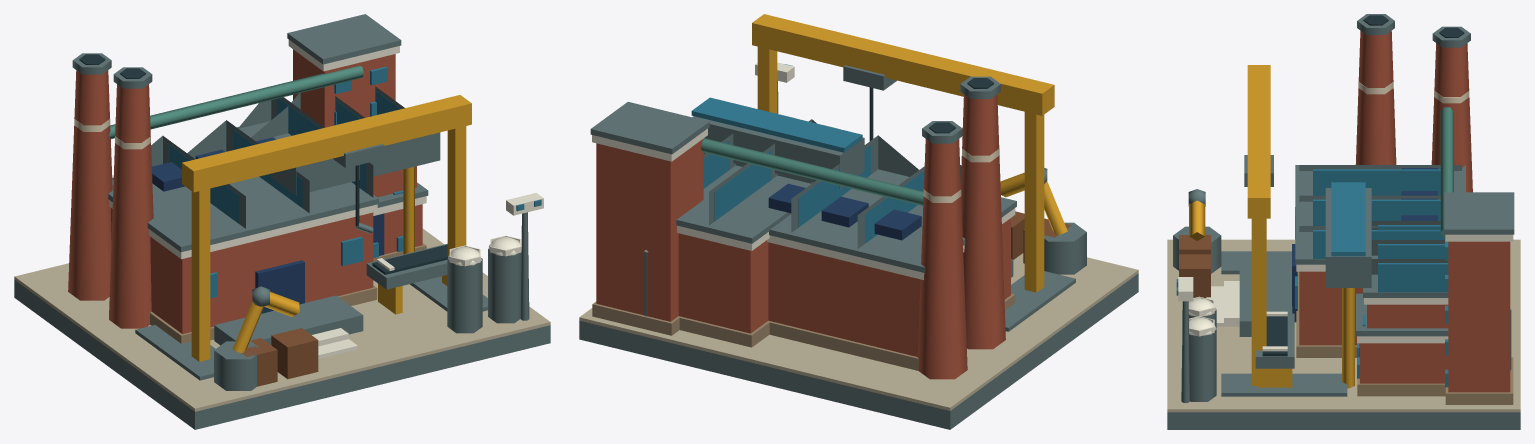
File: factory-lv5.glb
3 views of the same model, side by side, from view 1: azimuth 30°, elevation 25°; view 2: azimuth 150°, elevation 25°; view 3: azimuth 270°, elevation 25° (orthographic). The views are drawn at different scales.
Parts seen in each view (by area): view 1: chimney_clay, foundation_paving, main_workshop_clay, foundation_iron, gantry_beam_ochre, main_workshop_roof_iron, gantry_posts_ochre, material_silos_iron, process_tower_clay, logistics_bridge_iron, loading_platform_iron, process_tower_roof_iron (+29 smaller); view 2: chimney_clay, foundation_paving, process_tower_clay, main_workshop_clay, foundation_iron, gantry_beam_ochre, second_workshop_clay, main_workshop_roof_iron, gantry_posts_ochre, second_workshop_roof_iron, process_tower_roof_iron, bridge_roof_glass (+20 smaller); view 3: foundation_paving, process_tower_clay, chimney_clay, foundation_iron, main_workshop_skylights_glass, gantry_beam_ochre, warehouse_clay, second_workshop_skylights_glass, gantry_foot_iron, main_workshop_clay, process_tower_roof_iron, bridge_roof_glass (+33 smaller).
Boxes of the visible parts, x1=… form: chimney_clay: x1=68, y1=70, x2=153, y2=328; foundation_paving: x1=14, y1=228, x2=550, y2=411; main_workshop_clay: x1=111, y1=208, x2=373, y2=333; foundation_iron: x1=14, y1=280, x2=550, y2=429; gantry_beam_ochre: x1=182, y1=95, x2=471, y2=192; main_workshop_roof_iron: x1=108, y1=176, x2=378, y2=252; gantry_posts_ochre: x1=191, y1=126, x2=466, y2=361; material_silos_iron: x1=447, y1=248, x2=521, y2=333; process_tower_clay: x1=293, y1=49, x2=395, y2=127; logistics_bridge_iron: x1=272, y1=132, x2=440, y2=195; loading_platform_iron: x1=214, y1=295, x2=363, y2=345; process_tower_roof_iron: x1=287, y1=14, x2=401, y2=64; chimney_clay: x1=917, y1=94, x2=1005, y2=379; foundation_paving: x1=579, y1=253, x2=1138, y2=410; process_tower_clay: x1=596, y1=138, x2=703, y2=321; main_workshop_clay: x1=768, y1=218, x2=1010, y2=356; foundation_iron: x1=579, y1=273, x2=1138, y2=429; gantry_beam_ochre: x1=752, y1=14, x2=1054, y2=115; second_workshop_clay: x1=678, y1=233, x2=768, y2=333; main_workshop_roof_iron: x1=769, y1=169, x2=1016, y2=272; gantry_posts_ochre: x1=757, y1=46, x2=1044, y2=292; second_workshop_roof_iron: x1=676, y1=165, x2=812, y2=243; process_tower_roof_iron: x1=590, y1=102, x2=709, y2=154; bridge_roof_glass: x1=691, y1=97, x2=862, y2=152; foundation_paving: x1=1167, y1=239, x2=1520, y2=412; process_tower_clay: x1=1448, y1=241, x2=1510, y2=392; chimney_clay: x1=1355, y1=30, x2=1472, y2=192; foundation_iron: x1=1167, y1=412, x2=1520, y2=429; main_workshop_skylights_glass: x1=1313, y1=169, x2=1444, y2=258; gantry_beam_ochre: x1=1247, y1=65, x2=1270, y2=218; warehouse_clay: x1=1360, y1=343, x2=1448, y2=383; second_workshop_skylights_glass: x1=1378, y1=225, x2=1448, y2=292; gantry_foot_iron: x1=1221, y1=251, x2=1347, y2=396; main_workshop_clay: x1=1299, y1=271, x2=1362, y2=345; process_tower_roof_iron: x1=1444, y1=192, x2=1514, y2=234; bridge_roof_glass: x1=1331, y1=182, x2=1365, y2=256.
Size of the model in its own units: 1 by 0.7197 by 0.88.
